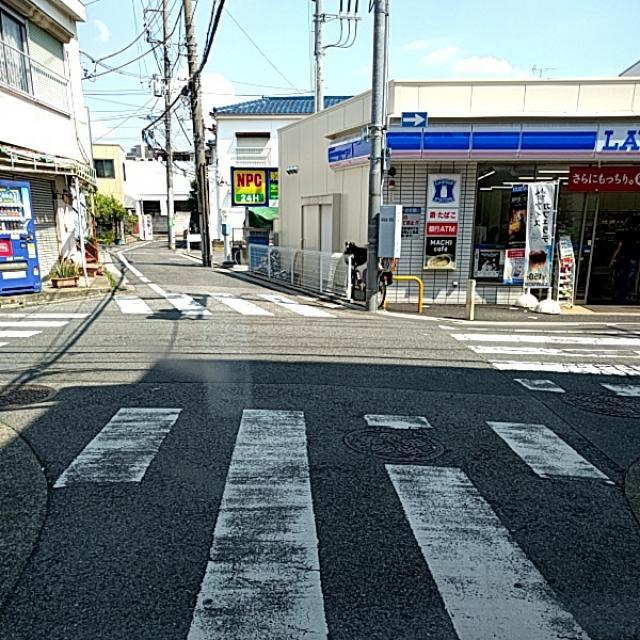pothole: (206, 497, 324, 607)
